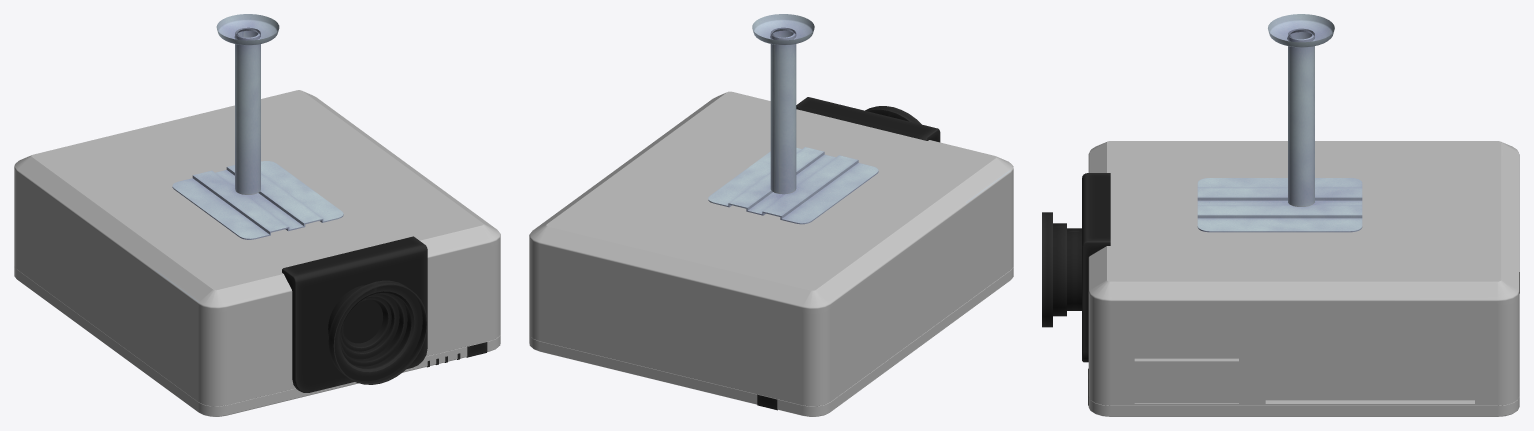
Rendered from Projector1.fbx.
The picture shows the model from 3 angles, left to right: view 1: azimuth 30°, elevation 25°; view 2: azimuth 150°, elevation 25°; view 3: azimuth 270°, elevation 25°; orthographic projection. The views are drawn at different scales.
Visible parts, largest first — view 1: Projector1; view 2: Projector1; view 3: Projector1.
Part boxes in pixels (box(x1,y1,x2,y2)): Projector1: box(14, 14, 500, 416); Projector1: box(529, 14, 1013, 416); Projector1: box(1042, 14, 1519, 416).
Size of the model in its own units: 50 by 45.89 by 64.64.
